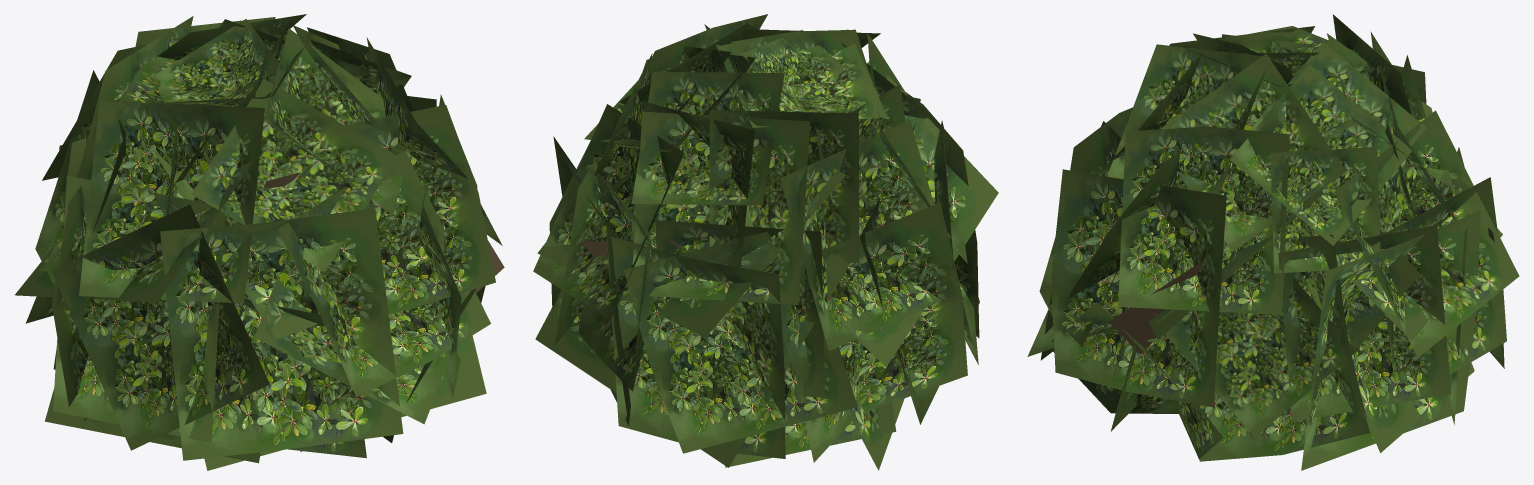
File: Cleyera.FBX
3 renders of one model, left to right at view 1: azimuth 30°, elevation 25°; view 2: azimuth 150°, elevation 25°; view 3: azimuth 270°, elevation 25°, orthographic. The views are drawn at different scales.
Visible parts, largest first — view 1: Cleyera; view 2: Cleyera; view 3: Cleyera.
Boxes of the visible parts, box(x1,y1,x2,y2) form: Cleyera: box(15, 14, 504, 470); Cleyera: box(533, 14, 998, 470); Cleyera: box(1027, 14, 1519, 470).
Bounding box in the file's own units: 91.77 × 86.57 × 99.03.
